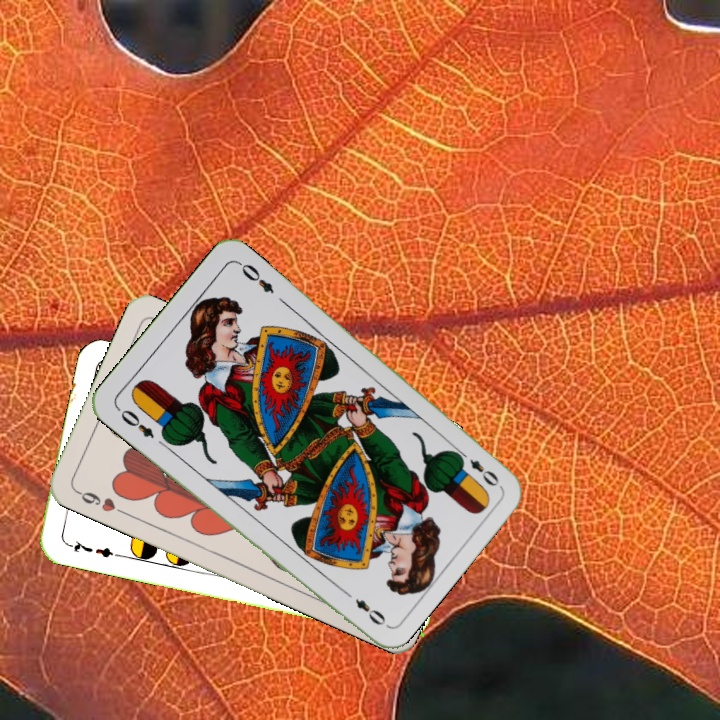E7: (62, 536, 121, 561)
EO: (452, 446, 502, 490), (116, 405, 157, 441)
H9: (71, 486, 127, 517)
